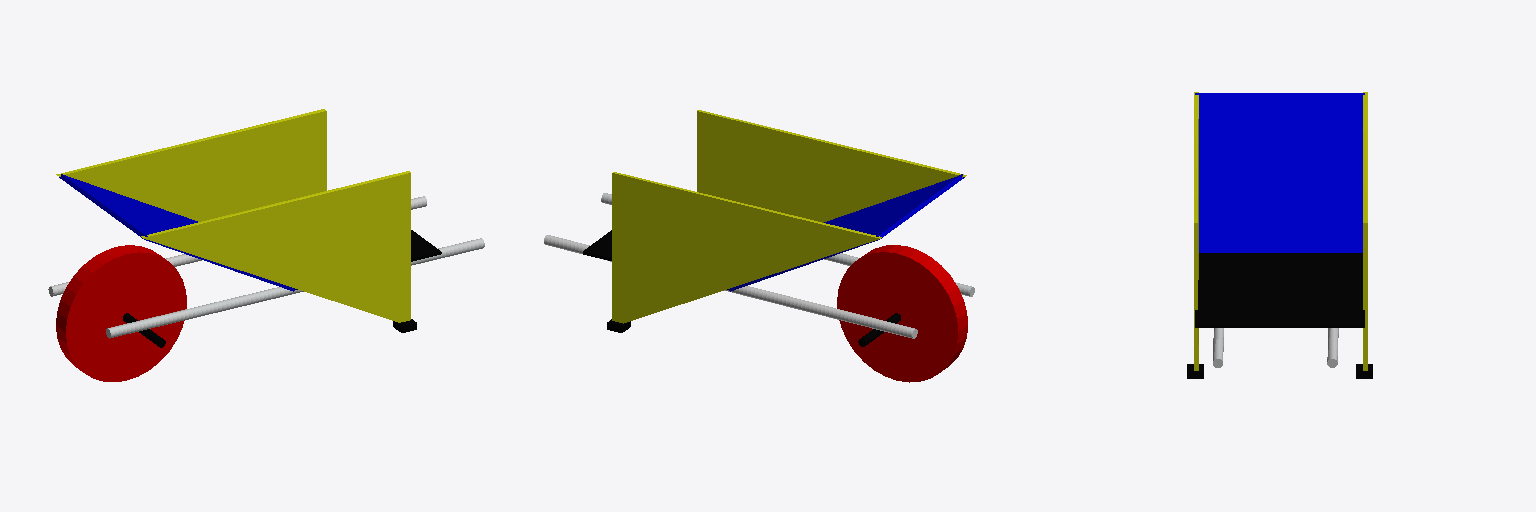
Rendered from kruiwagen.obj.
The picture shows the model from 3 angles: view 1: azimuth 30°, elevation 25°; view 2: azimuth 150°, elevation 25°; view 3: azimuth 270°, elevation 25°; orthographic projection.
Parts seen in each view (by area): view 1: Cube.003, Cube.002, Cylinder, Cube.001, Cylinder.002, Cylinder.003, Cube; view 2: Cube.002, Cube.003, Cylinder, Cube.001, Cylinder.003; view 3: Cube.001, Cube, Cube.002, Cube.003.
Boxes of the visible parts, x1,y1,x2,y2 form: Cube.003: [141, 171, 410, 322]; Cube.002: [56, 109, 326, 221]; Cylinder: [56, 245, 186, 381]; Cube.001: [59, 174, 294, 291]; Cylinder.002: [106, 238, 484, 338]; Cylinder.003: [48, 196, 426, 296]; Cube: [295, 230, 441, 289]; Cube.002: [612, 172, 881, 323]; Cube.003: [697, 110, 966, 222]; Cylinder: [837, 245, 967, 382]; Cube.001: [729, 174, 964, 291]; Cylinder.003: [544, 235, 917, 338]; Cube.001: [1195, 93, 1364, 252]; Cube: [1195, 253, 1364, 327]; Cube.002: [1363, 92, 1367, 370]; Cube.003: [1194, 92, 1198, 370].
Size of the model in its own units: 5.3 by 2.3 by 2.2.